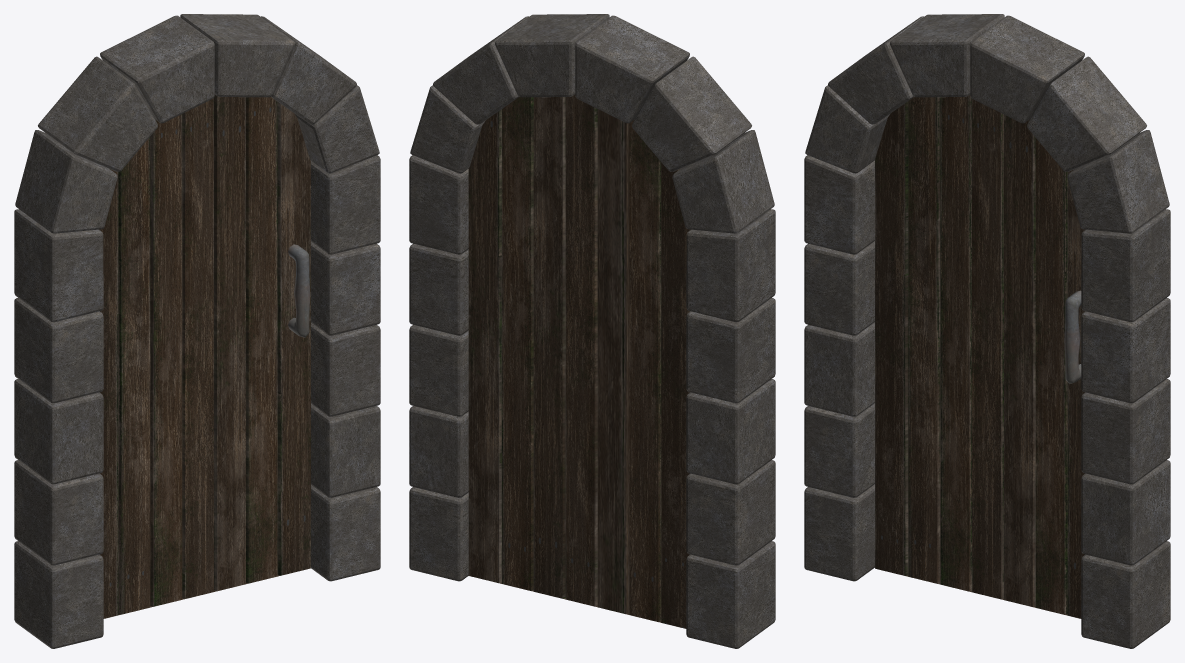
File: RoundedDoorFramed.fbx
3 renders of one model, left to right at view 1: azimuth 30°, elevation 25°; view 2: azimuth 150°, elevation 25°; view 3: azimuth 330°, elevation 25°, orthographic.
Visible parts, largest first — view 1: Rounded Door with Frame; view 2: Rounded Door with Frame; view 3: Rounded Door with Frame.
Part boxes in pixels (x1,y1,x2,y2): Rounded Door with Frame: (14, 14, 380, 648); Rounded Door with Frame: (409, 14, 775, 648); Rounded Door with Frame: (804, 14, 1170, 648).
Bounding box in the file's own units: 133 × 218 × 27.2.
